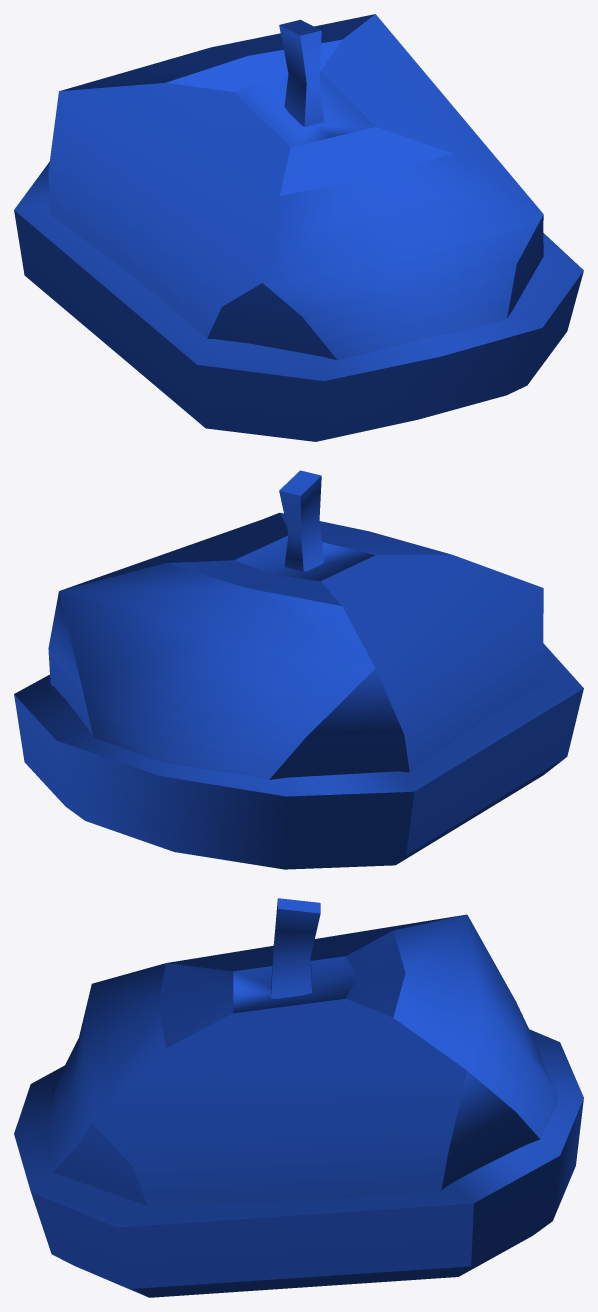
Rendered from pk-polysplit-heroes-feltedhat.glb.
The picture shows the model from 3 angles, top to bottom: view 1: azimuth 30°, elevation 25°; view 2: azimuth 150°, elevation 25°; view 3: azimuth 270°, elevation 25°; orthographic projection.
Parts seen in each view (by area): view 1: FeltedHat; view 2: FeltedHat; view 3: FeltedHat.
Part boxes in pixels (x1,y1,x2,y2): FeltedHat: (14,14,583,441); FeltedHat: (14,470,583,869); FeltedHat: (14,898,583,1297).
Size of the model in its own units: 0.2757 by 0.2055 by 0.3364.
Materials: 1 (1 with a texture image).
